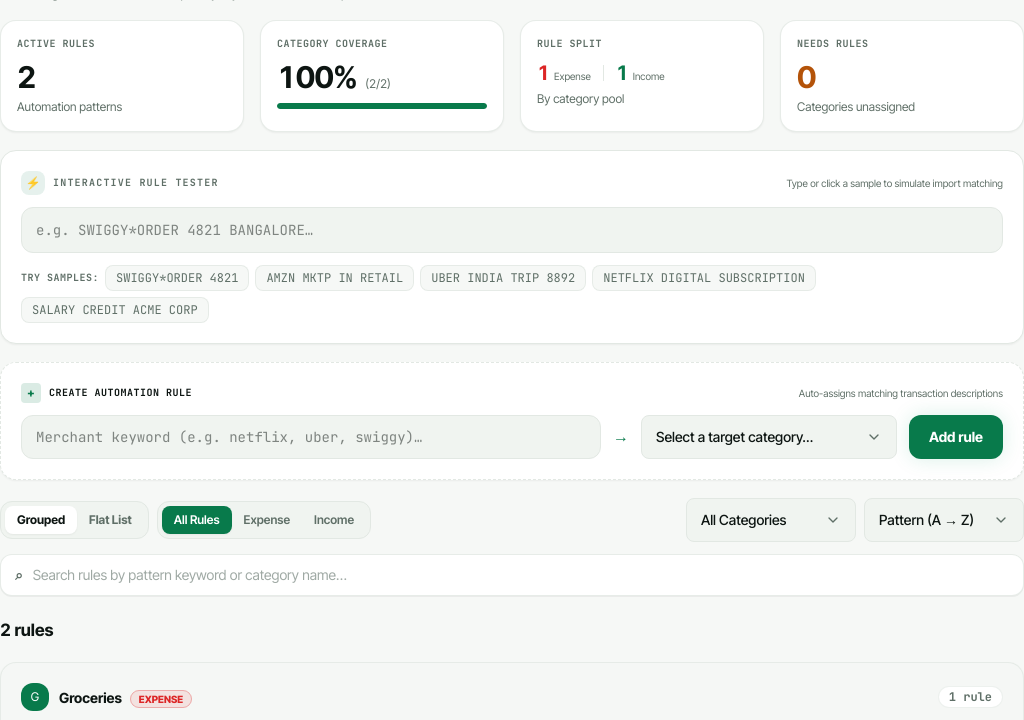
Scenario: CategoryRuleManager › filters rules by kind when clicking filter pills
Click the button "Expense": (267, 520) [232,506,302,534]
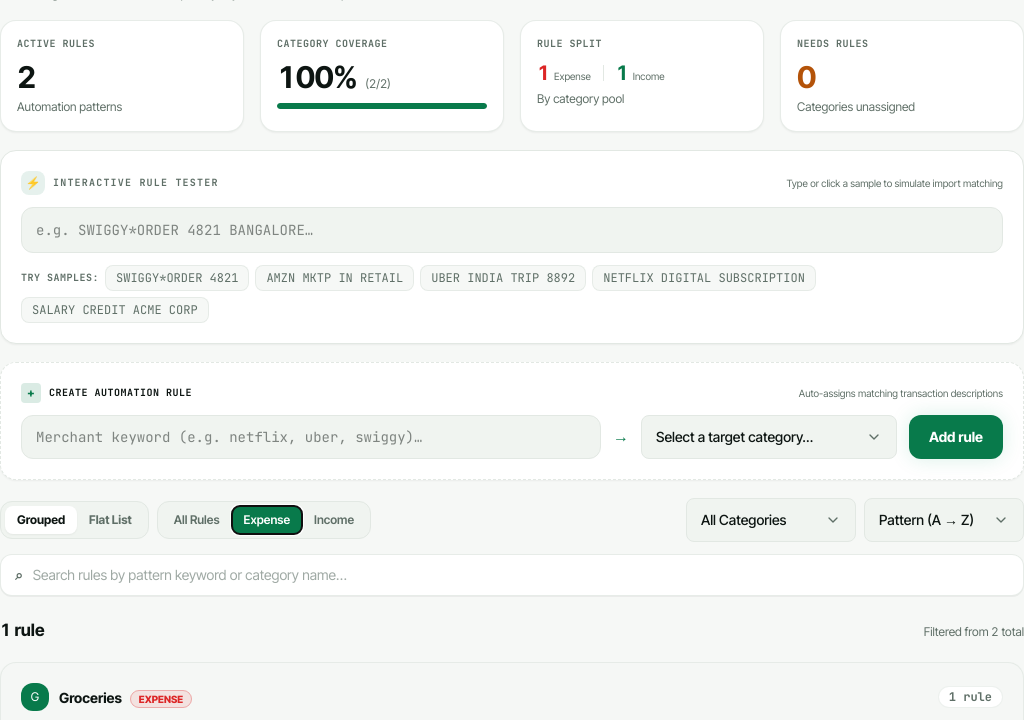
Expected: the text "\"salary acme\"" is not shown
Click the button "Income": (334, 520) [302,506,366,534]
(page scrolled)
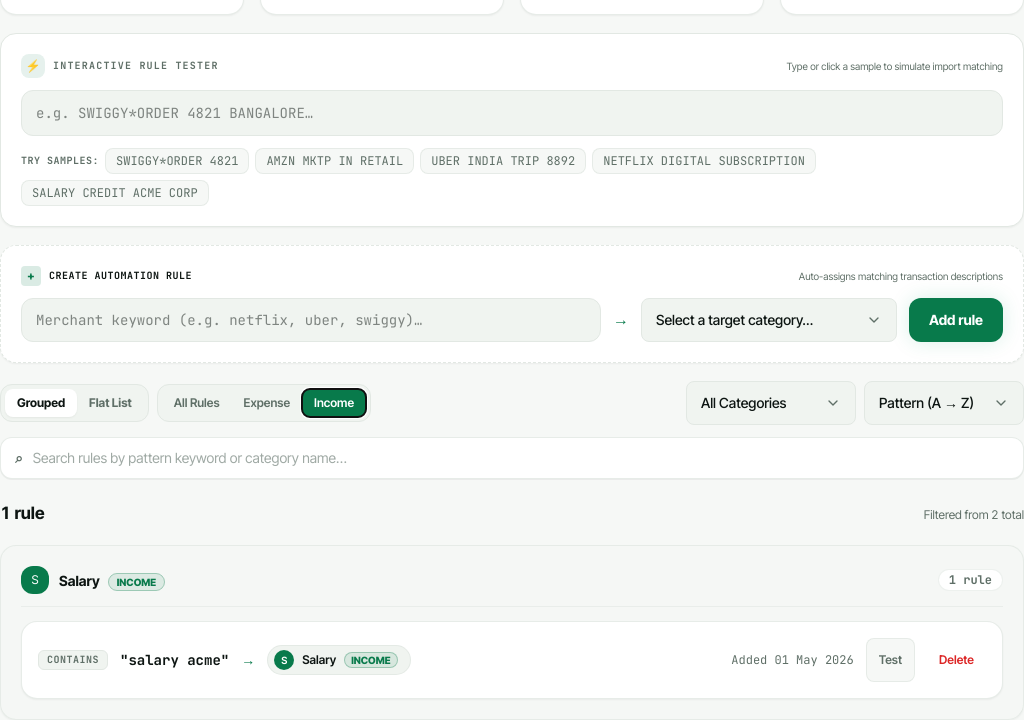
Expected: the text "\"salary acme\"" is shown, [120,650,229,670]
